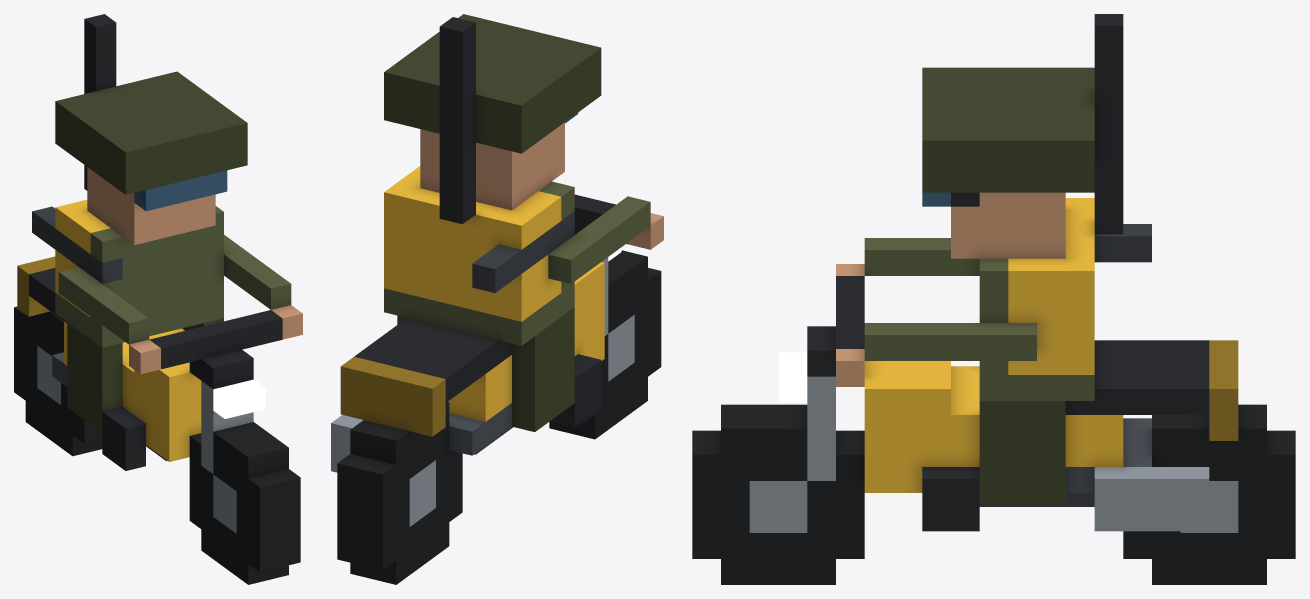
File: cm_scout_2.glb
3 renders of one model, left to right at view 1: azimuth 30°, elevation 25°; view 2: azimuth 150°, elevation 25°; view 3: azimuth 270°, elevation 25°, orthographic. The views are drawn at different scales.
Visible parts, largest first — view 1: cm_scout_2_body; view 2: cm_scout_2_body; view 3: cm_scout_2_body.
Part boxes in pixels (x1,y1,x2,y2): cm_scout_2_body: (14, 14, 302, 584); cm_scout_2_body: (331, 14, 663, 584); cm_scout_2_body: (692, 14, 1295, 584).
Bounding box in the file's own units: 0.5 × 1.31 × 1.31.
Materials: 1 (1 with a texture image).
